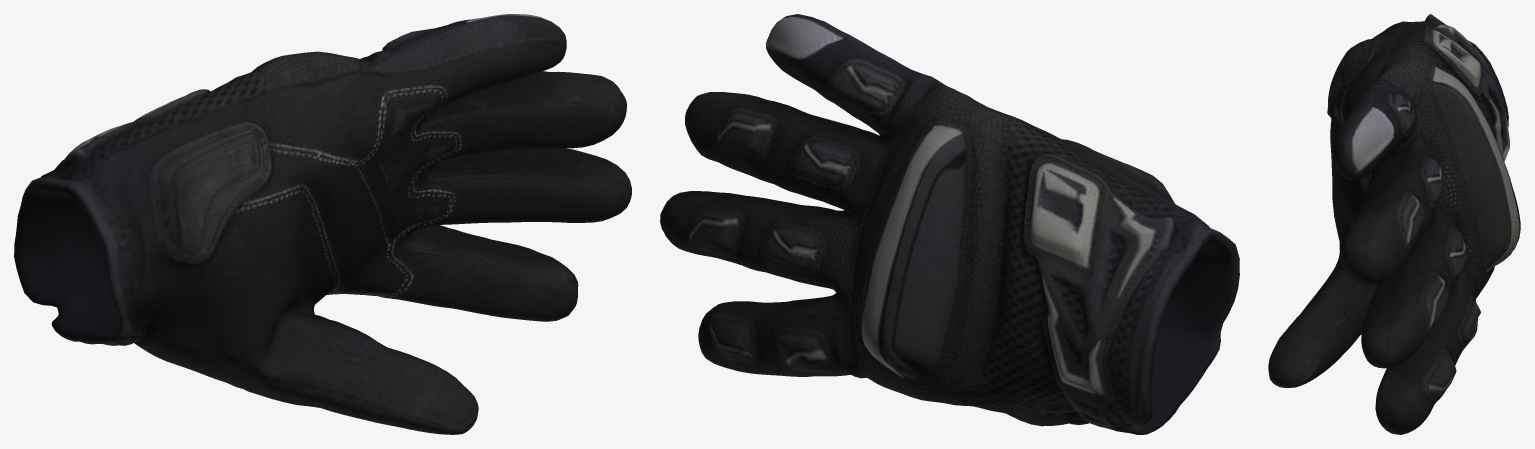
The model's file is gloves2.glb.
3 renders of one model, left to right at view 1: azimuth 30°, elevation 25°; view 2: azimuth 150°, elevation 25°; view 3: azimuth 270°, elevation 25°, orthographic. The views are drawn at different scales.
Parts seen in each view (by area): view 1: Object_4; view 2: Object_4; view 3: Object_4.
Part boxes in pixels (<box>): Object_4: <box>14,14,631,434</box>; Object_4: <box>660,14,1239,434</box>; Object_4: <box>1268,14,1520,434</box>.
Bounding box in the file's own units: 4 × 2.5 × 1.86.
Materials: 1 (1 with a texture image).
